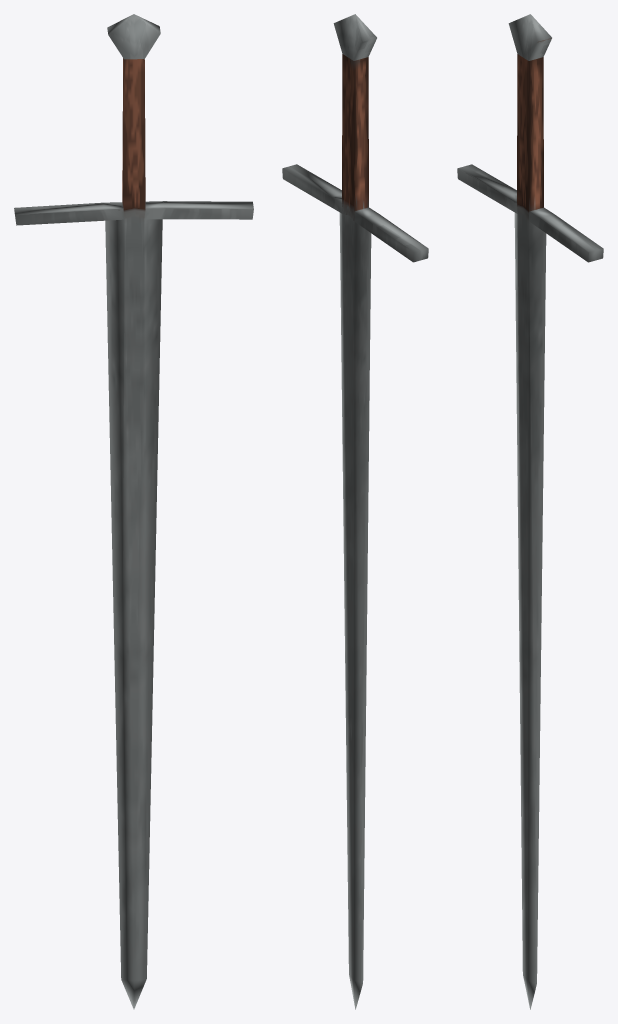
File: WeaponKnightSword.glb
3 views of the same model, side by side, from view 1: azimuth 30°, elevation 25°; view 2: azimuth 150°, elevation 25°; view 3: azimuth 330°, elevation 25° (orthographic).
Visible parts, largest first — view 1: Sword; view 2: Sword; view 3: Sword.
Part boxes in pixels (<box>): Sword: <box>14,14,253,1009</box>; Sword: <box>282,14,428,1009</box>; Sword: <box>457,14,603,1009</box>.
Size of the model in its own units: 0.7112 by 3.52 by 0.3936.
Materials: 1 (1 with a texture image).
